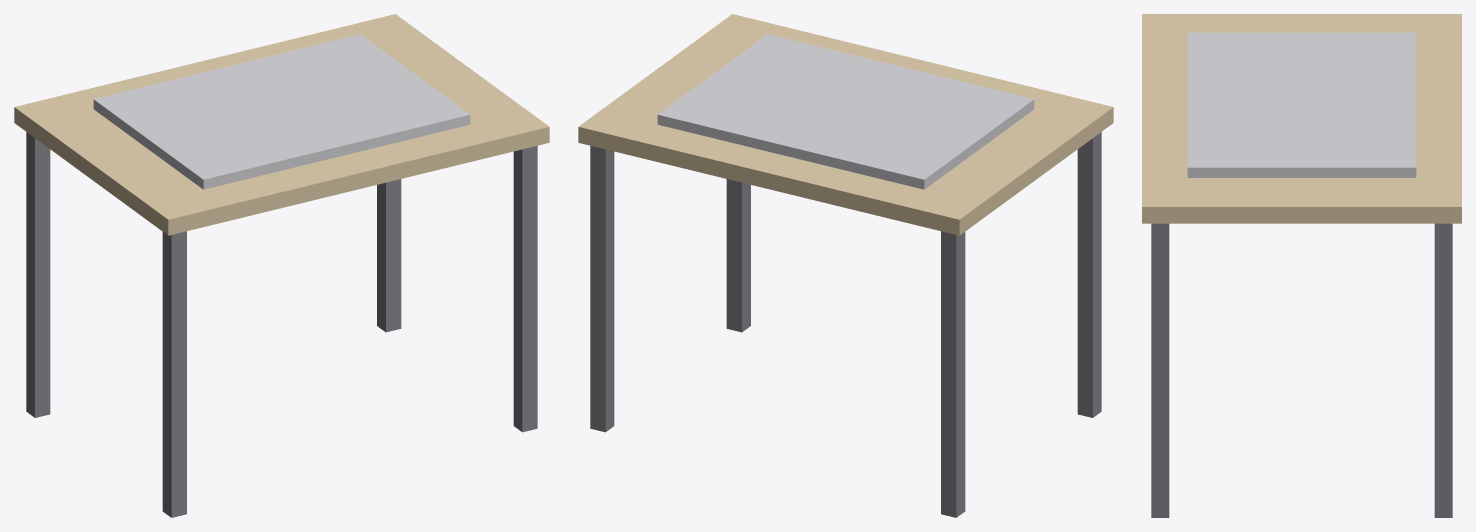
The model's file is teppan_table.glb.
3 views of the same model, side by side, from view 1: azimuth 30°, elevation 25°; view 2: azimuth 150°, elevation 25°; view 3: azimuth 270°, elevation 25° (orthographic). The views are drawn at different scales.
Visible parts, largest first — view 1: table_top, iron_plate, legs; view 2: table_top, iron_plate, legs; view 3: table_top, iron_plate, legs.
Part boxes in pixels (bbox=[...]): table_top: bbox=[14, 14, 549, 235]; iron_plate: bbox=[93, 34, 470, 189]; legs: bbox=[26, 132, 537, 517]; table_top: bbox=[578, 14, 1113, 235]; iron_plate: bbox=[657, 34, 1034, 189]; legs: bbox=[590, 132, 1101, 517]; table_top: bbox=[1142, 14, 1461, 223]; iron_plate: bbox=[1187, 32, 1416, 177]; legs: bbox=[1151, 223, 1452, 517].
Bounding box in the file's own units: 1 × 0.785 × 0.7.
